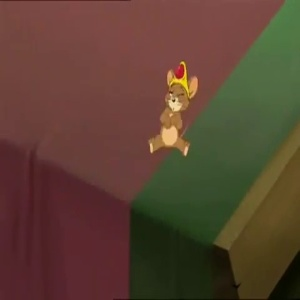Jerry: (162, 63, 200, 115)
